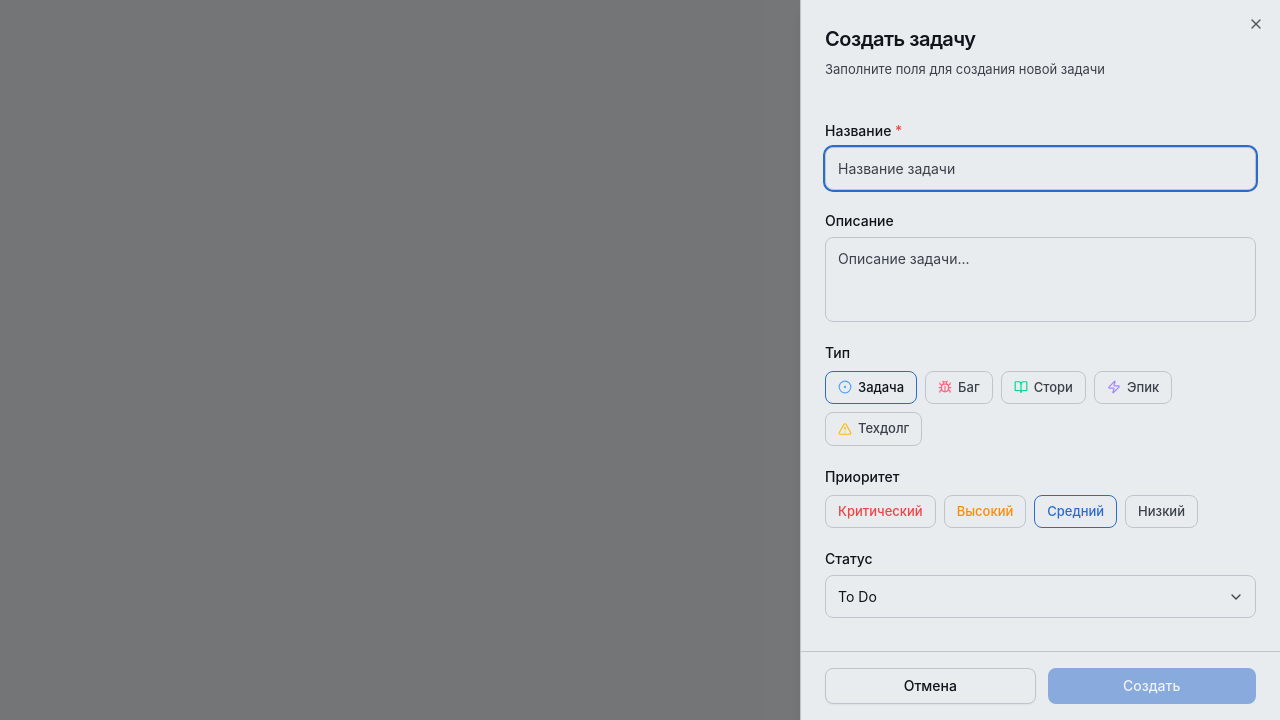
CreateTaskSheet › кнопка создания разблокируется при вводе названия
Type "Новая задача" into the field with placeholder "Название задачи" at (1040, 168), box [825,146,1256,190]
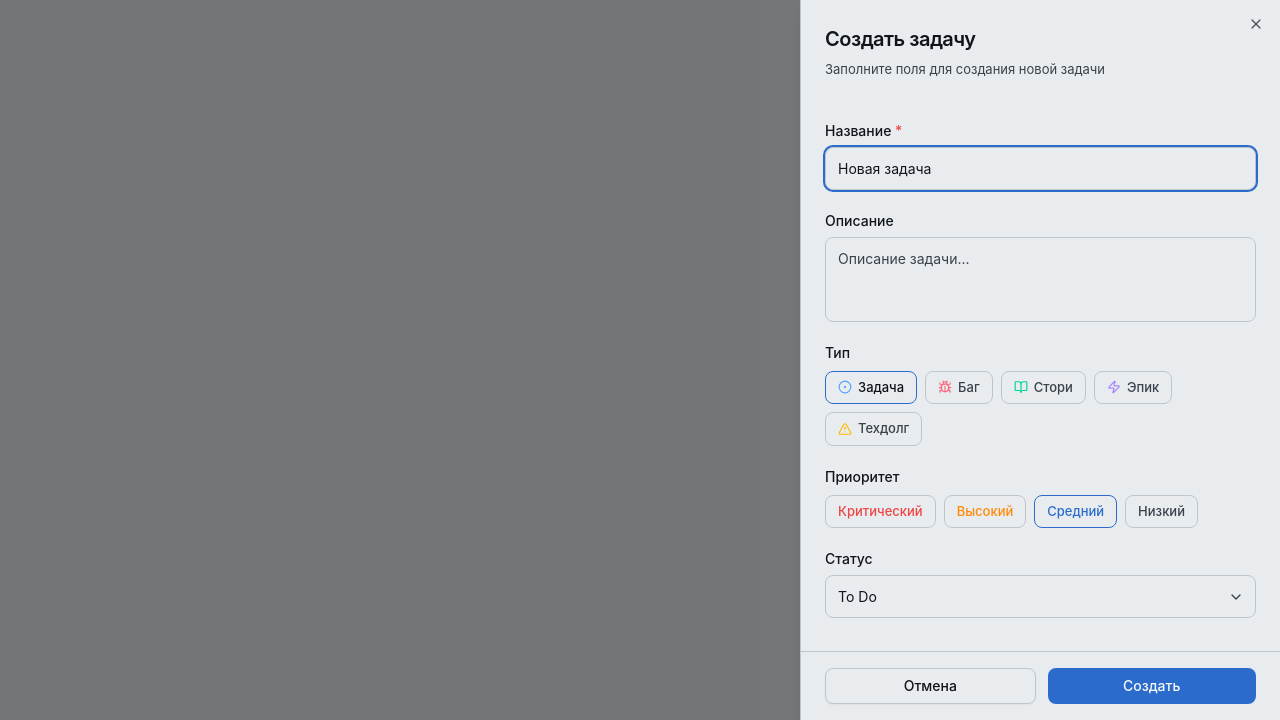
Result: the button "Создать" is enabled at [1048,668,1256,704]
